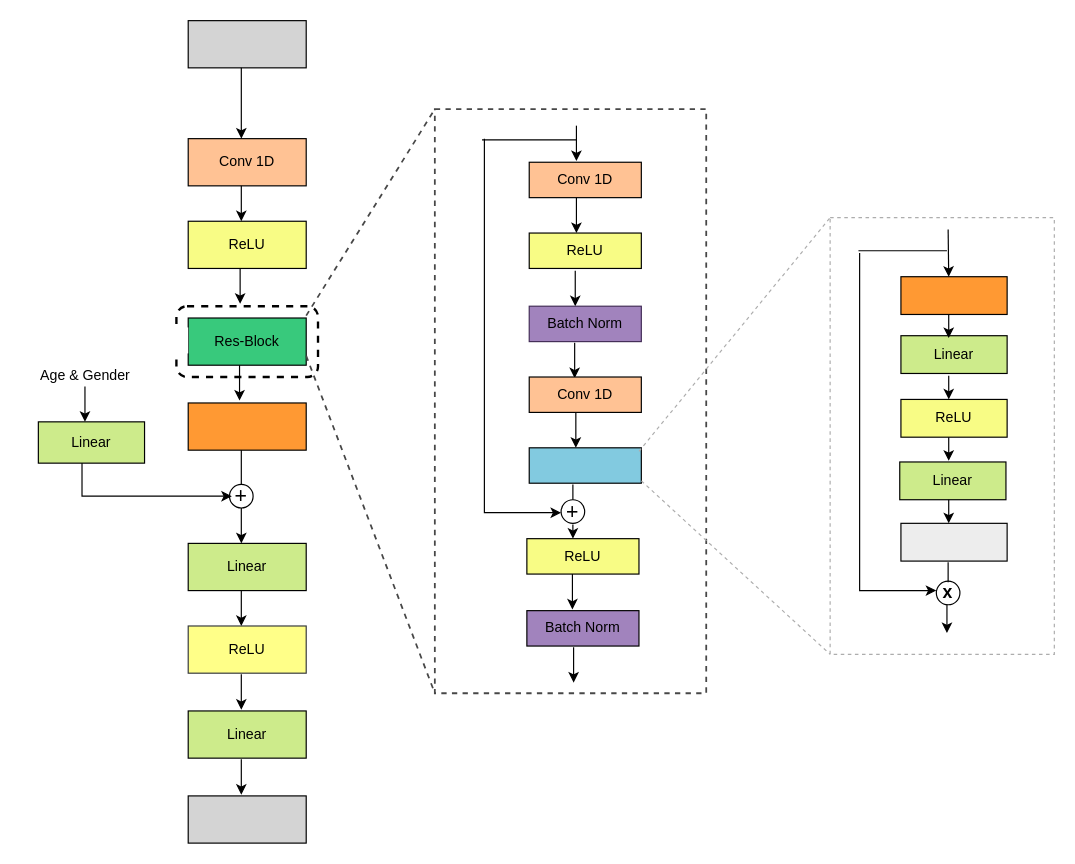
Some shapes in this 1075 by 864 pixel diagram are drawn without their labels. Here are the shapes that lost their labels. From the top down, the centre of each, then its label:
At point (246, 43): "ECG Lead Input".
At point (953, 295): "Global pooling".
At point (170, 340): "x3".
At point (246, 426): "Avg Pool".
At point (584, 465): "SE-Block".
At point (953, 541): "Sigmoid".
At point (246, 819): "Logits".
